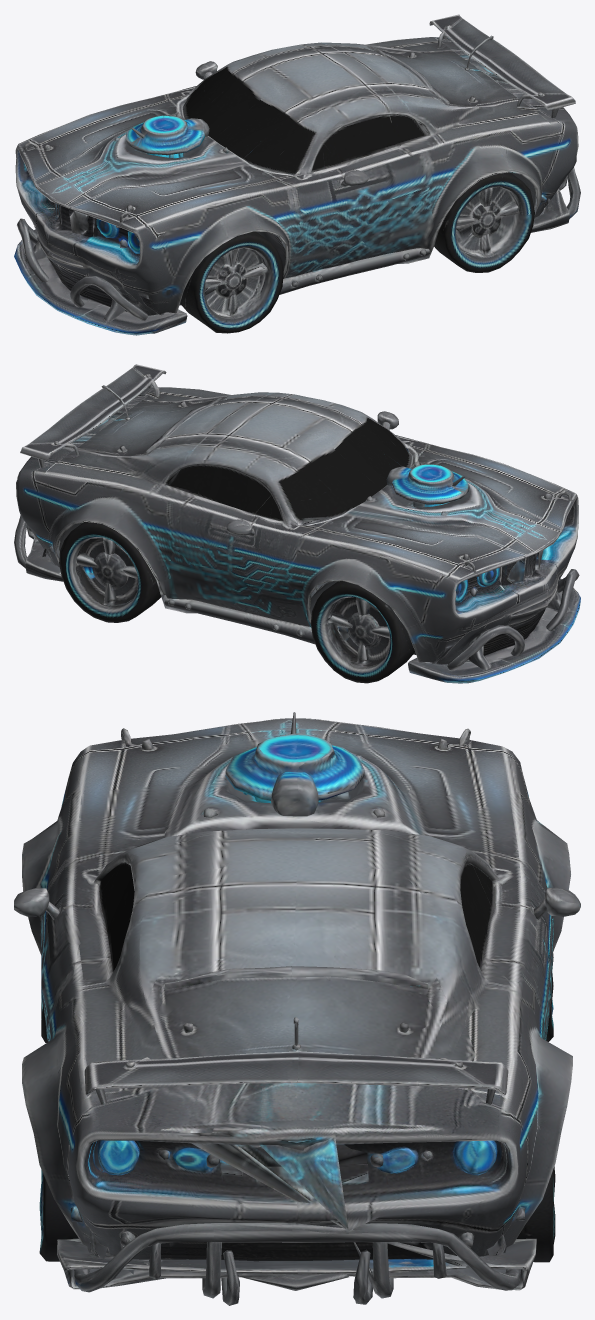
The model's file is car.fbx.
3 renders of one model, top to bottom at view 1: azimuth 30°, elevation 25°; view 2: azimuth 150°, elevation 25°; view 3: azimuth 270°, elevation 25°, orthographic. The views are drawn at different scales.
Visible parts, largest first — view 1: Mesh_0; view 2: Mesh_0; view 3: Mesh_0.
Boxes of the visible parts, x1=… form: Mesh_0: x1=14, y1=14, x2=580, y2=335; Mesh_0: x1=14, y1=364, x2=580, y2=683; Mesh_0: x1=14, y1=712, x2=580, y2=1305.
Bounding box in the file's own units: 100 × 33.79 × 56.45.
Materials: 1 (1 with a texture image).
